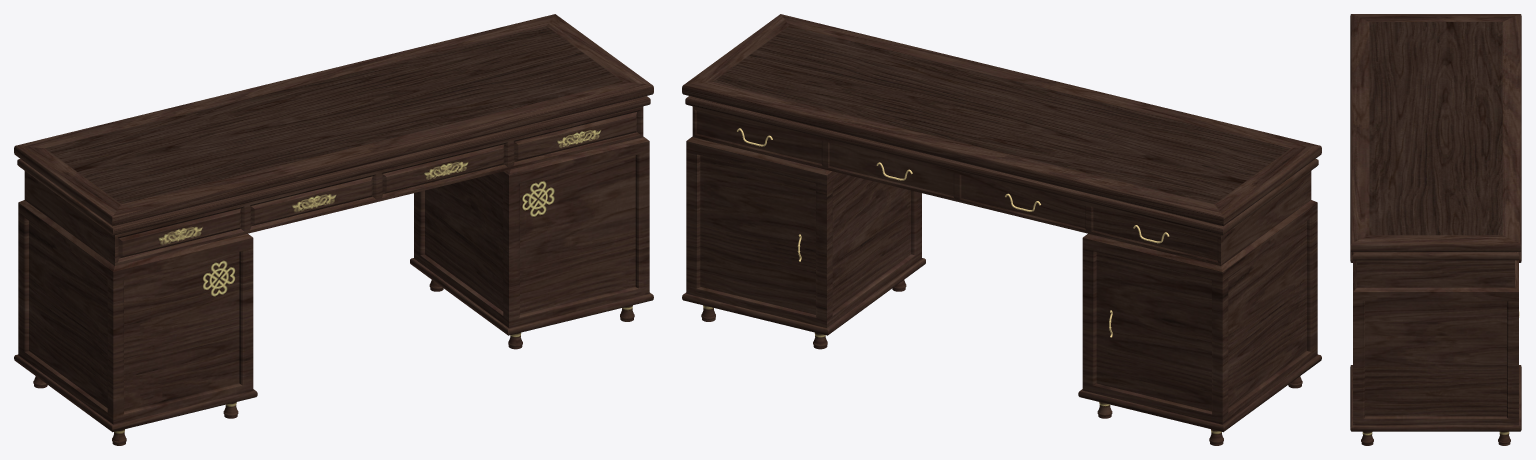
Rendered from old_desk.glb.
3 views of the same model, side by side, from view 1: azimuth 30°, elevation 25°; view 2: azimuth 150°, elevation 25°; view 3: azimuth 270°, elevation 25° (orthographic). The views are drawn at different scales.
Parts seen in each view (by area): view 1: Box041; view 2: Box041; view 3: Box041.
Boxes of the visible parts, bbox=[...] form: Box041: bbox=[14, 14, 653, 445]; Box041: bbox=[682, 14, 1321, 445]; Box041: bbox=[1350, 14, 1521, 445].
Bounding box in the file's own units: 2 × 0.837 × 0.6273.
Materials: 1 (1 with a texture image).
